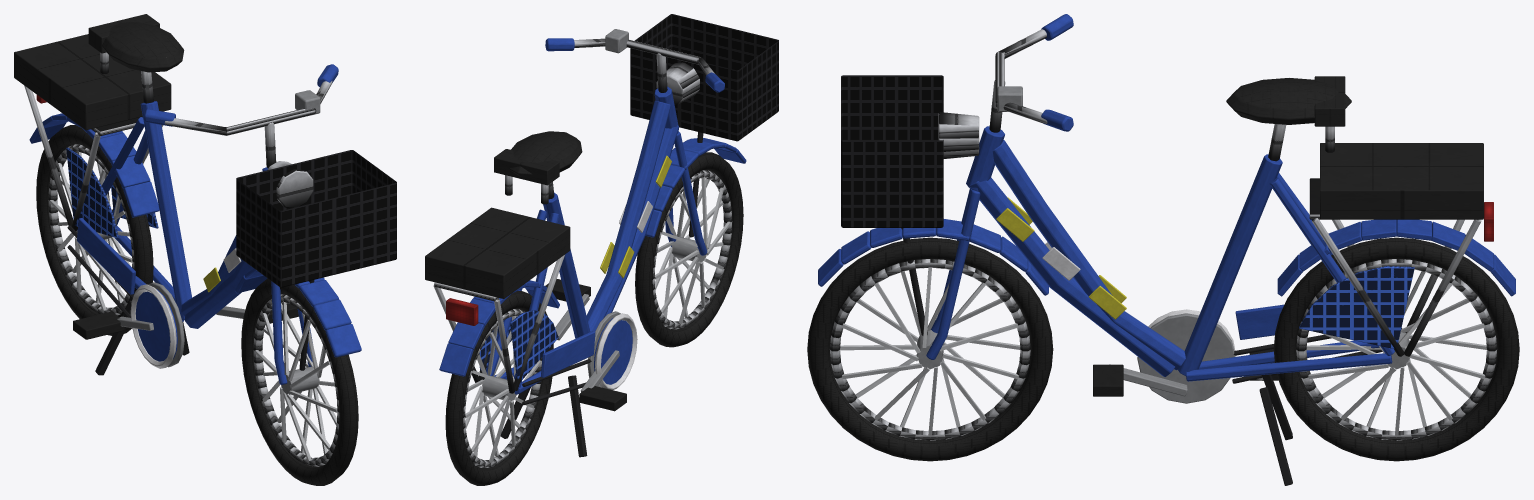
Rendered from ThaiBicycleBlue.fbx.
3 views of the same model, side by side, from view 1: azimuth 30°, elevation 25°; view 2: azimuth 150°, elevation 25°; view 3: azimuth 270°, elevation 25° (orthographic). The views are drawn at different scales.
Parts seen in each view (by area): view 1: ThaiBicycleBlue, ThaiBicycleBlue_Handlebar, Wheel_F, Wheel_R; view 2: ThaiBicycleBlue, ThaiBicycleBlue_Handlebar, Wheel_F, Wheel_R; view 3: ThaiBicycleBlue, Wheel_F, ThaiBicycleBlue_Handlebar, Wheel_R.
Boxes of the visible parts, box(x1,y1,x2,y2) form: ThaiBicycleBlue: box(14, 14, 298, 375); ThaiBicycleBlue_Handlebar: box(144, 64, 396, 384); Wheel_F: box(241, 278, 358, 485); Wheel_R: box(36, 125, 153, 335); ThaiBicycleBlue: box(425, 86, 679, 457); ThaiBicycleBlue_Handlebar: box(545, 14, 778, 255); Wheel_F: box(635, 152, 743, 347); Wheel_R: box(445, 291, 553, 485); ThaiBicycleBlue: box(966, 76, 1515, 485); Wheel_F: box(807, 237, 1053, 461); ThaiBicycleBlue_Handlebar: box(818, 14, 1073, 359); Wheel_R: box(1273, 237, 1519, 461).
Bounding box in the file's own units: 59.04 × 102 × 165.
Materials: 1 (1 with a texture image).
